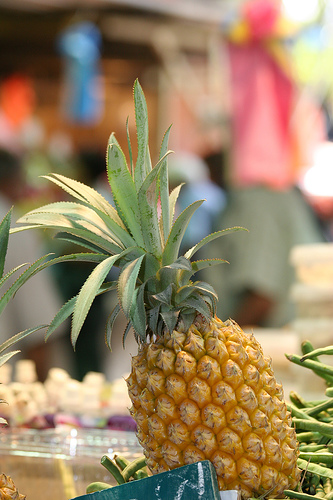pineapple: (12, 73, 301, 497)
